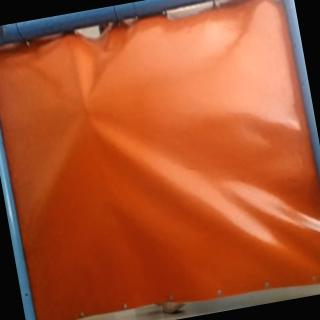Hit-hRxx: (80, 98, 96, 120)
